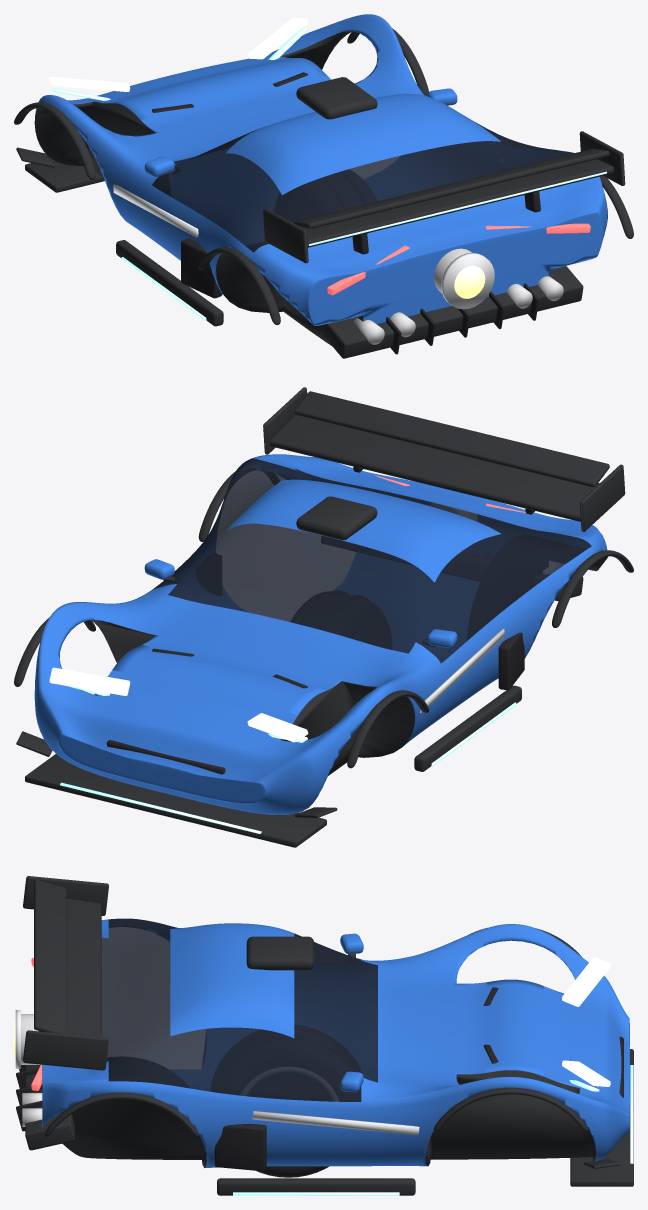
The model's file is nova_gt.glb.
The picture shows the model from 3 angles, top to bottom: view 1: azimuth 30°, elevation 25°; view 2: azimuth 150°, elevation 25°; view 3: azimuth 270°, elevation 25°; orthographic projection.
Visible parts, largest first — view 1: Body; view 2: Body; view 3: Body, Wheel.
Part boxes in pixels (x1,y1,x2,y2): Body: [14, 14, 633, 358]; Body: [14, 387, 633, 847]; Body: [14, 876, 633, 1195]; Wheel: [213, 1025, 360, 1177].
Bounding box in the file's own units: 1.05 × 0.6245 × 1.56.
